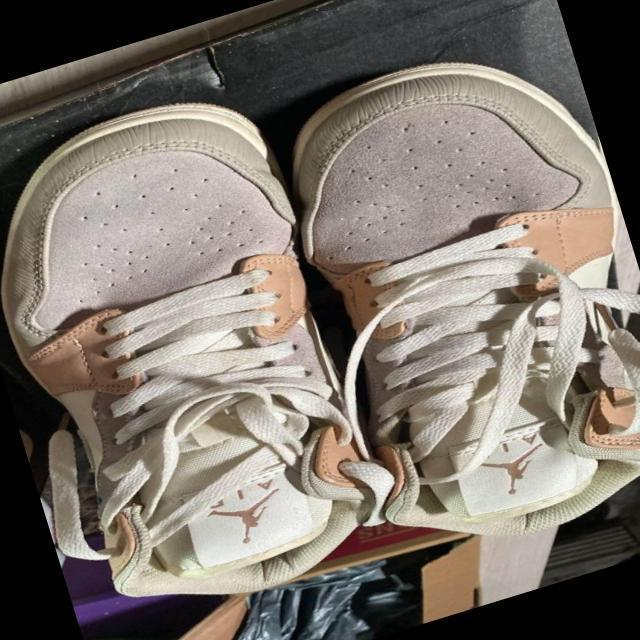nike fake jordan 1: (0, 69, 406, 640), (259, 20, 640, 572)
